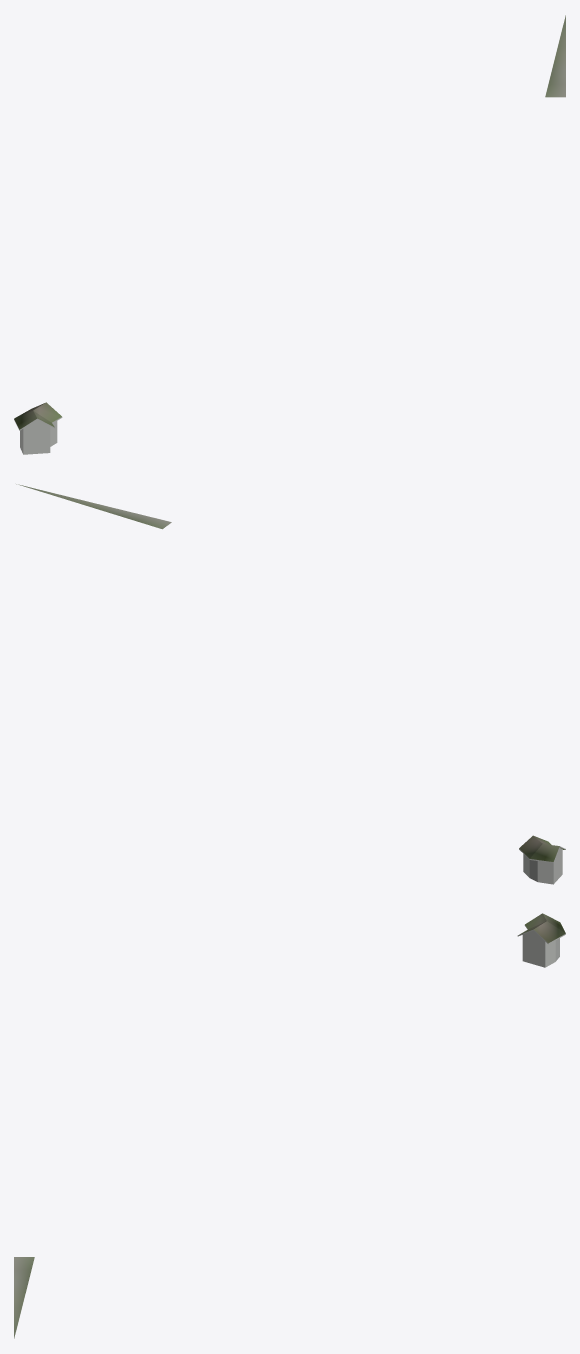
The model's file is LSMM_0_0.glb.
3 renders of one model, top to bottom at view 1: azimuth 90°, elevation 25°; view 2: azimuth 150°, elevation 25°; view 3: azimuth 270°, elevation 25°, orthographic. The views are drawn at different scales.
Visible parts, largest first — view 1: building_93316cf4f7901696, pavement_LSMM_pavement_5303_2354, building_70ff3018fe8103b4; view 2: building_93316cf4f7901696, pavement_LSMM_pavement_5303_2354, building_70ff3018fe8103b4; view 3: building_93316cf4f7901696, pavement_LSMM_pavement_5303_2354, building_70ff3018fe8103b4.
Part boxes in pixels (x1,y1,x2,y2): building_93316cf4f7901696: [20, 419, 57, 454]; pavement_LSMM_pavement_5303_2354: [545, 15, 565, 97]; building_70ff3018fe8103b4: [14, 402, 62, 430]; building_93316cf4f7901696: [523, 848, 562, 884]; pavement_LSMM_pavement_5303_2354: [16, 484, 171, 529]; building_70ff3018fe8103b4: [519, 835, 565, 863]; building_93316cf4f7901696: [522, 930, 559, 967]; pavement_LSMM_pavement_5303_2354: [14, 1257, 34, 1338]; building_70ff3018fe8103b4: [517, 913, 565, 944].
Bounding box in the file's own units: 155 × 6.27 × 86.78.
Materials: 3 (2 with a texture image).
